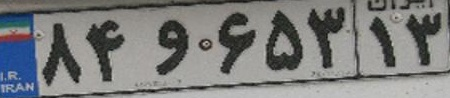character: (81, 16, 131, 85), (38, 19, 85, 89), (213, 8, 259, 78), (304, 4, 350, 71), (262, 4, 305, 74), (149, 17, 191, 82), (402, 10, 445, 69), (365, 14, 403, 70)
